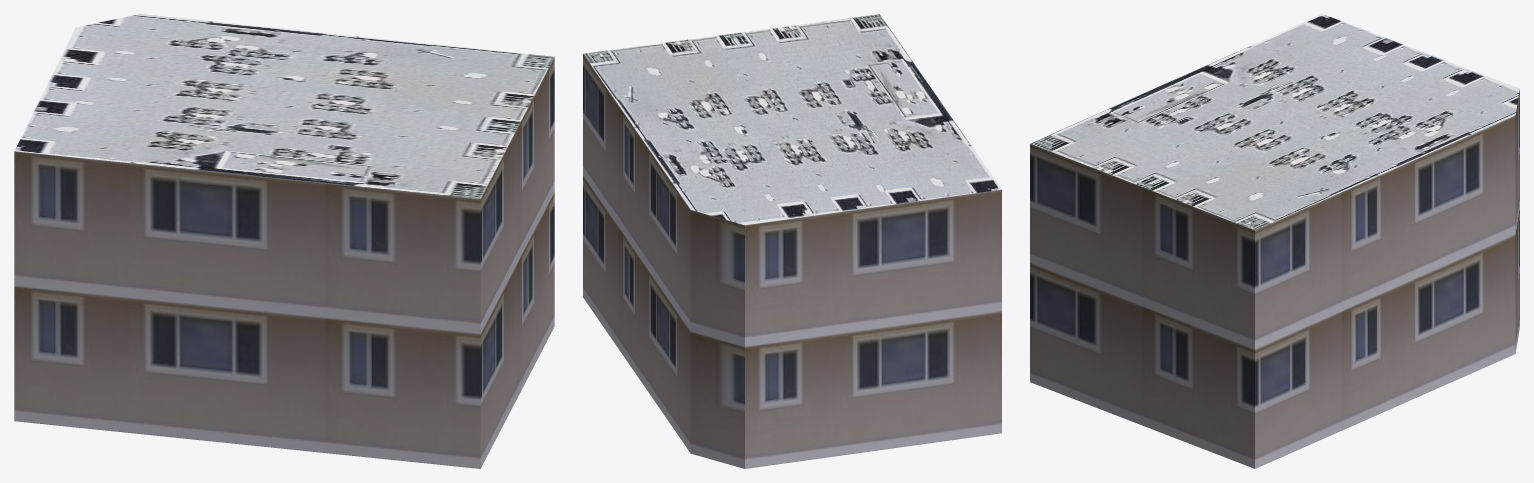
File: ResTex__83.fbx
3 views of the same model, side by side, from view 1: azimuth 30°, elevation 25°; view 2: azimuth 150°, elevation 25°; view 3: azimuth 270°, elevation 25° (orthographic). The views are drawn at different scales.
Parts seen in each view (by area): view 1: CityEngineMaterial_21_m, CityEngineMaterial_m; view 2: CityEngineMaterial_21_m, CityEngineMaterial_m; view 3: CityEngineMaterial_21_m, CityEngineMaterial_m.
Boxes of the visible parts, bbox=[...] form: CityEngineMaterial_21_m: bbox=[14, 57, 554, 468]; CityEngineMaterial_m: bbox=[14, 14, 554, 198]; CityEngineMaterial_21_m: bbox=[583, 54, 1001, 468]; CityEngineMaterial_m: bbox=[583, 14, 1001, 225]; CityEngineMaterial_21_m: bbox=[1030, 89, 1519, 468]; CityEngineMaterial_m: bbox=[1030, 14, 1519, 230].
Bounding box in the file's own units: 11.68 × 6 × 11.17.
2 materials, 2 textured.
